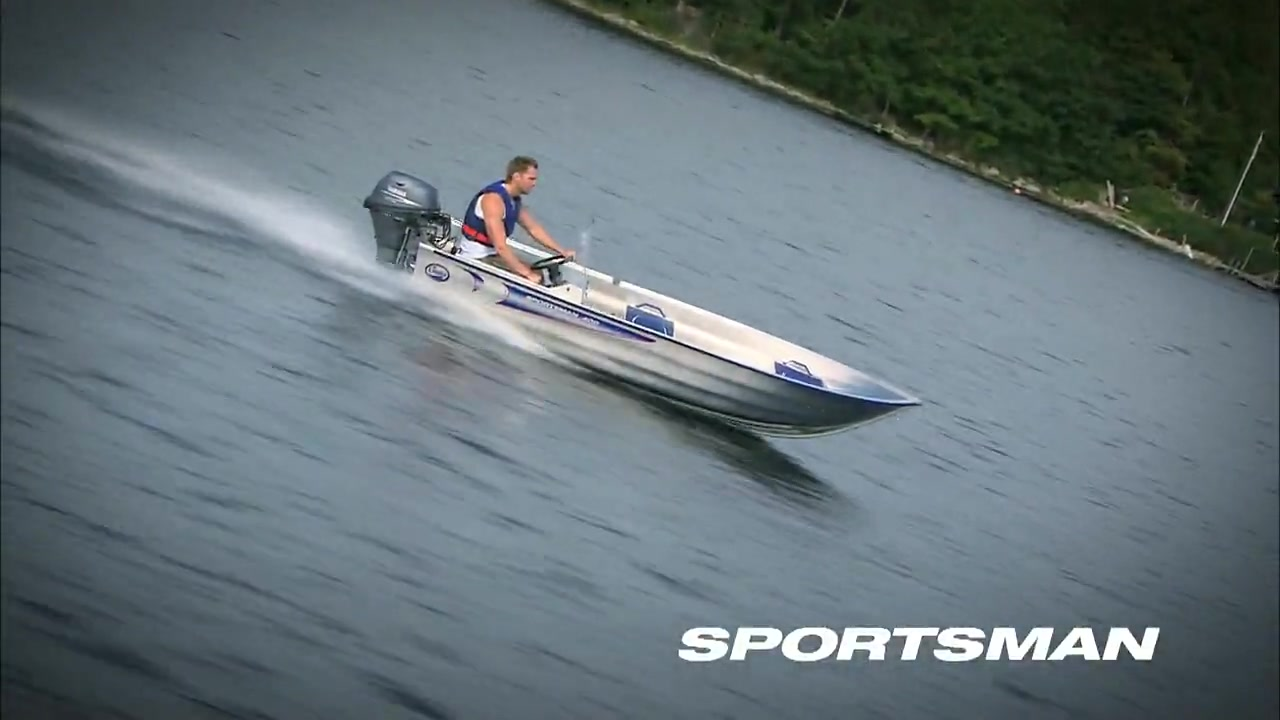boat: (362, 170, 930, 441)
